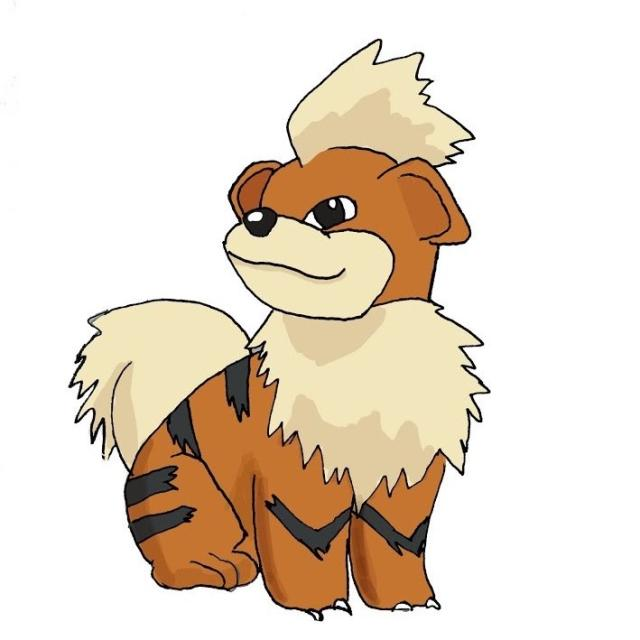Growlithe: (124, 75, 475, 591)
